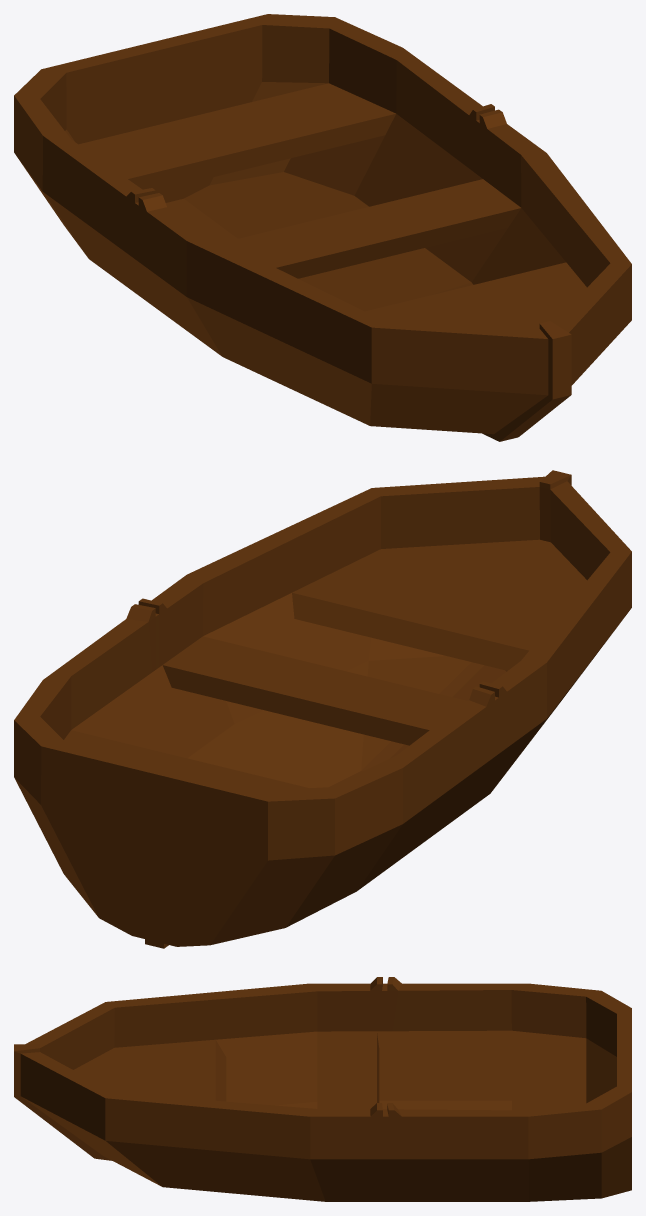
The model's file is BoatTest.fbx.
3 views of the same model, one above another, from view 1: azimuth 30°, elevation 25°; view 2: azimuth 150°, elevation 25°; view 3: azimuth 270°, elevation 25° (orthographic). The views are drawn at different scales.
Parts seen in each view (by area): view 1: Boat; view 2: Boat; view 3: Boat.
Boxes of the visible parts, x1=… form: Boat: x1=14, y1=14, x2=631, y2=441; Boat: x1=14, y1=470, x2=631, y2=948; Boat: x1=14, y1=977, x2=631, y2=1201.
Size of the model in its own units: 678 by 326 by 1329.
